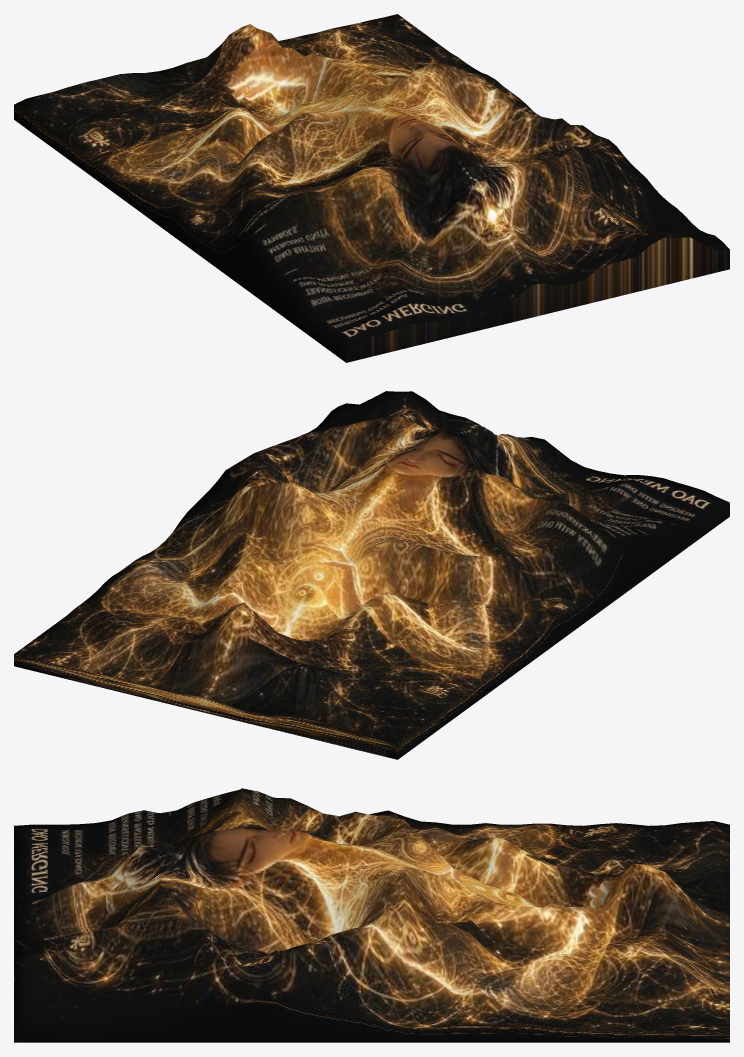
The model's file is REALM_09_Dao_Merging.glb.
The picture shows the model from 3 angles, top to bottom: view 1: azimuth 30°, elevation 25°; view 2: azimuth 150°, elevation 25°; view 3: azimuth 270°, elevation 25°; orthographic projection. The views are drawn at different scales.
Visible parts, largest first — view 1: REALM_09_Dao_Merging; view 2: REALM_09_Dao_Merging; view 3: REALM_09_Dao_Merging.
Boxes of the visible parts, <box> form: REALM_09_Dao_Merging: <box>14,14,729,362</box>; REALM_09_Dao_Merging: <box>14,391,729,759</box>; REALM_09_Dao_Merging: <box>14,788,729,1042</box>.
Size of the model in its own units: 2 by 0.51 by 3.
Materials: 1 (1 with a texture image).
